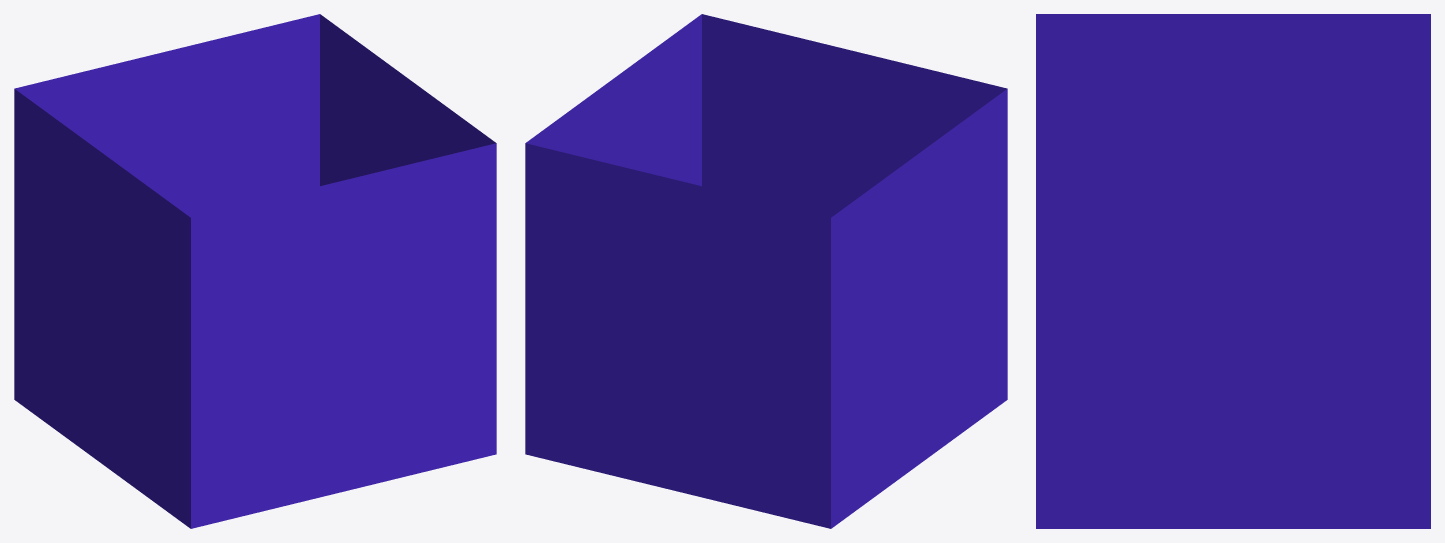
The model's file is park_map.glb.
3 views of the same model, side by side, from view 1: azimuth 30°, elevation 25°; view 2: azimuth 150°, elevation 25°; view 3: azimuth 270°, elevation 25° (orthographic). The views are drawn at different scales.
Visible parts, largest first — view 1: Bg; view 2: Bg; view 3: Bg.
Boxes of the visible parts, left/top/right/bottom form: Bg: left=14, top=14, right=496, bottom=528; Bg: left=525, top=14, right=1007, bottom=528; Bg: left=1036, top=14, right=1430, bottom=528.
Size of the model in its own units: 218 by 212 by 218.
